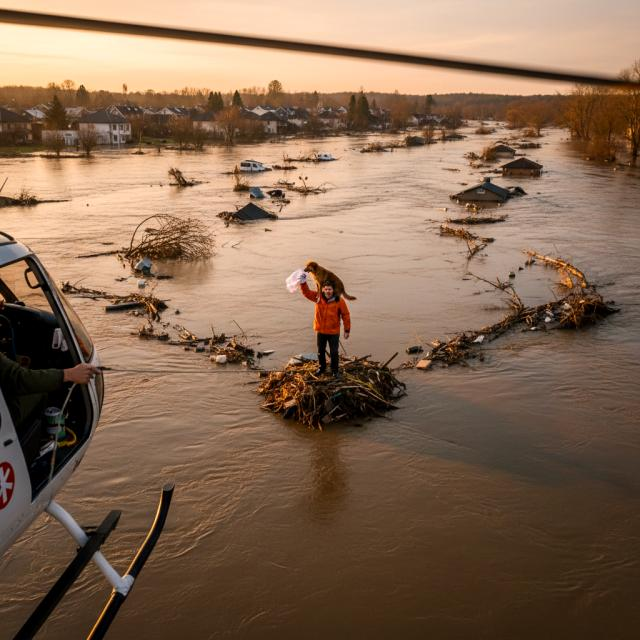civilian: (290, 270, 359, 384)
dog: (302, 254, 360, 308)
